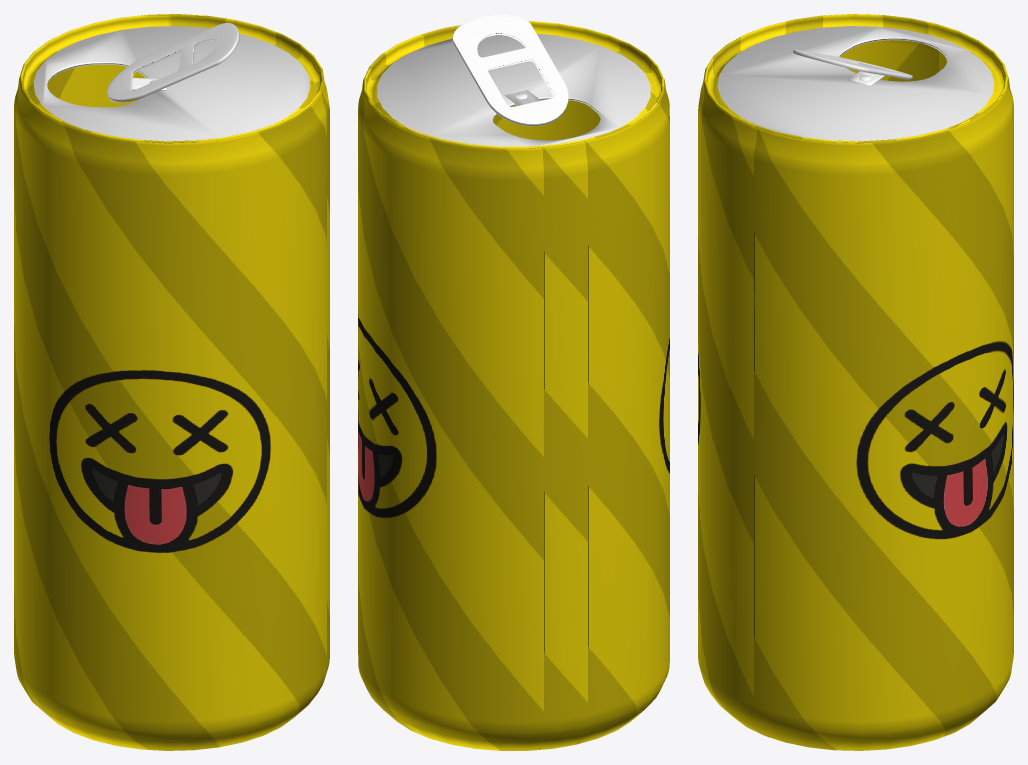
Rendered from can.glb.
3 views of the same model, side by side, from view 1: azimuth 30°, elevation 25°; view 2: azimuth 150°, elevation 25°; view 3: azimuth 270°, elevation 25° (orthographic).
Visible parts, largest first — view 1: Cylinder.003; view 2: Cylinder.003; view 3: Cylinder.003.
Part boxes in pixels (x1,y1,x2,y2): Cylinder.003: (14, 14, 329, 750); Cylinder.003: (358, 14, 669, 750); Cylinder.003: (698, 14, 1013, 750).
Size of the model in its own units: 2.6 by 6.01 by 2.6.
Materials: 4 (1 with a texture image).
